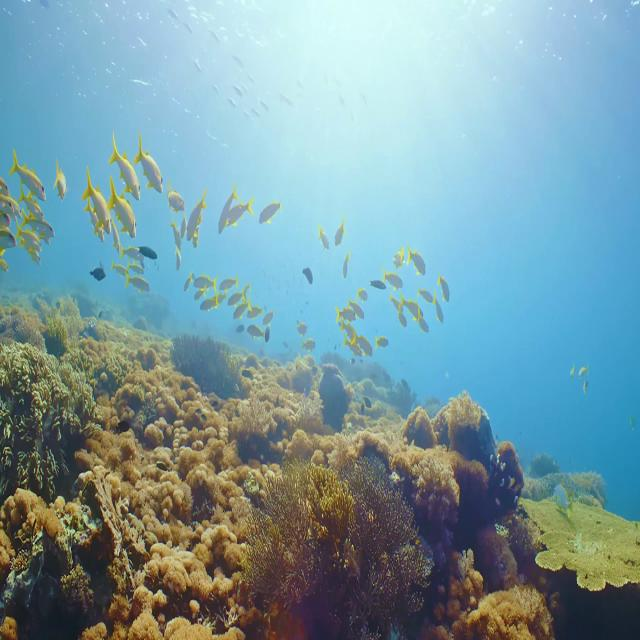fish: (9, 149, 50, 204), (108, 142, 141, 201), (108, 184, 140, 241), (133, 145, 166, 196), (84, 170, 110, 232), (184, 189, 211, 247), (217, 185, 240, 237), (20, 211, 56, 243), (222, 195, 255, 223), (256, 199, 283, 229), (405, 244, 427, 278)
